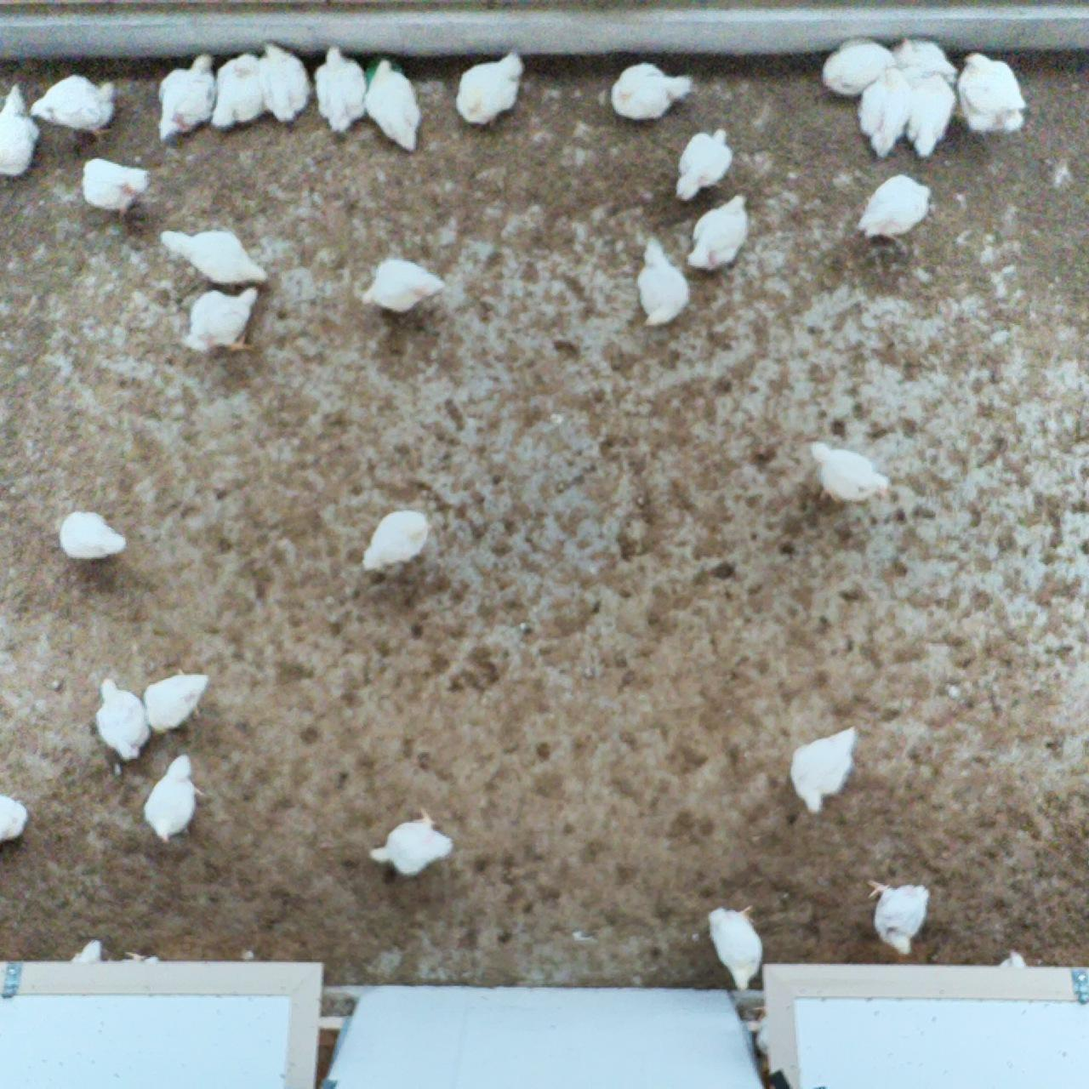chicken: (783, 722, 865, 818), (949, 47, 1030, 138), (366, 802, 460, 879), (157, 227, 271, 290), (362, 53, 429, 157), (451, 47, 530, 135), (140, 750, 210, 849), (805, 438, 894, 513), (31, 75, 123, 147), (179, 284, 264, 360), (155, 51, 221, 148), (607, 57, 696, 127), (356, 252, 450, 318), (702, 900, 766, 994), (89, 674, 154, 766), (861, 874, 933, 957), (684, 192, 754, 277), (854, 171, 934, 245), (633, 232, 694, 329), (851, 64, 913, 159), (312, 43, 370, 138), (358, 506, 436, 575), (817, 33, 897, 100), (142, 664, 212, 740), (206, 52, 270, 135), (903, 70, 960, 163), (672, 120, 734, 205), (79, 153, 154, 222), (0, 80, 47, 184), (255, 40, 312, 125), (56, 506, 137, 563), (890, 34, 962, 86), (0, 792, 32, 849)
